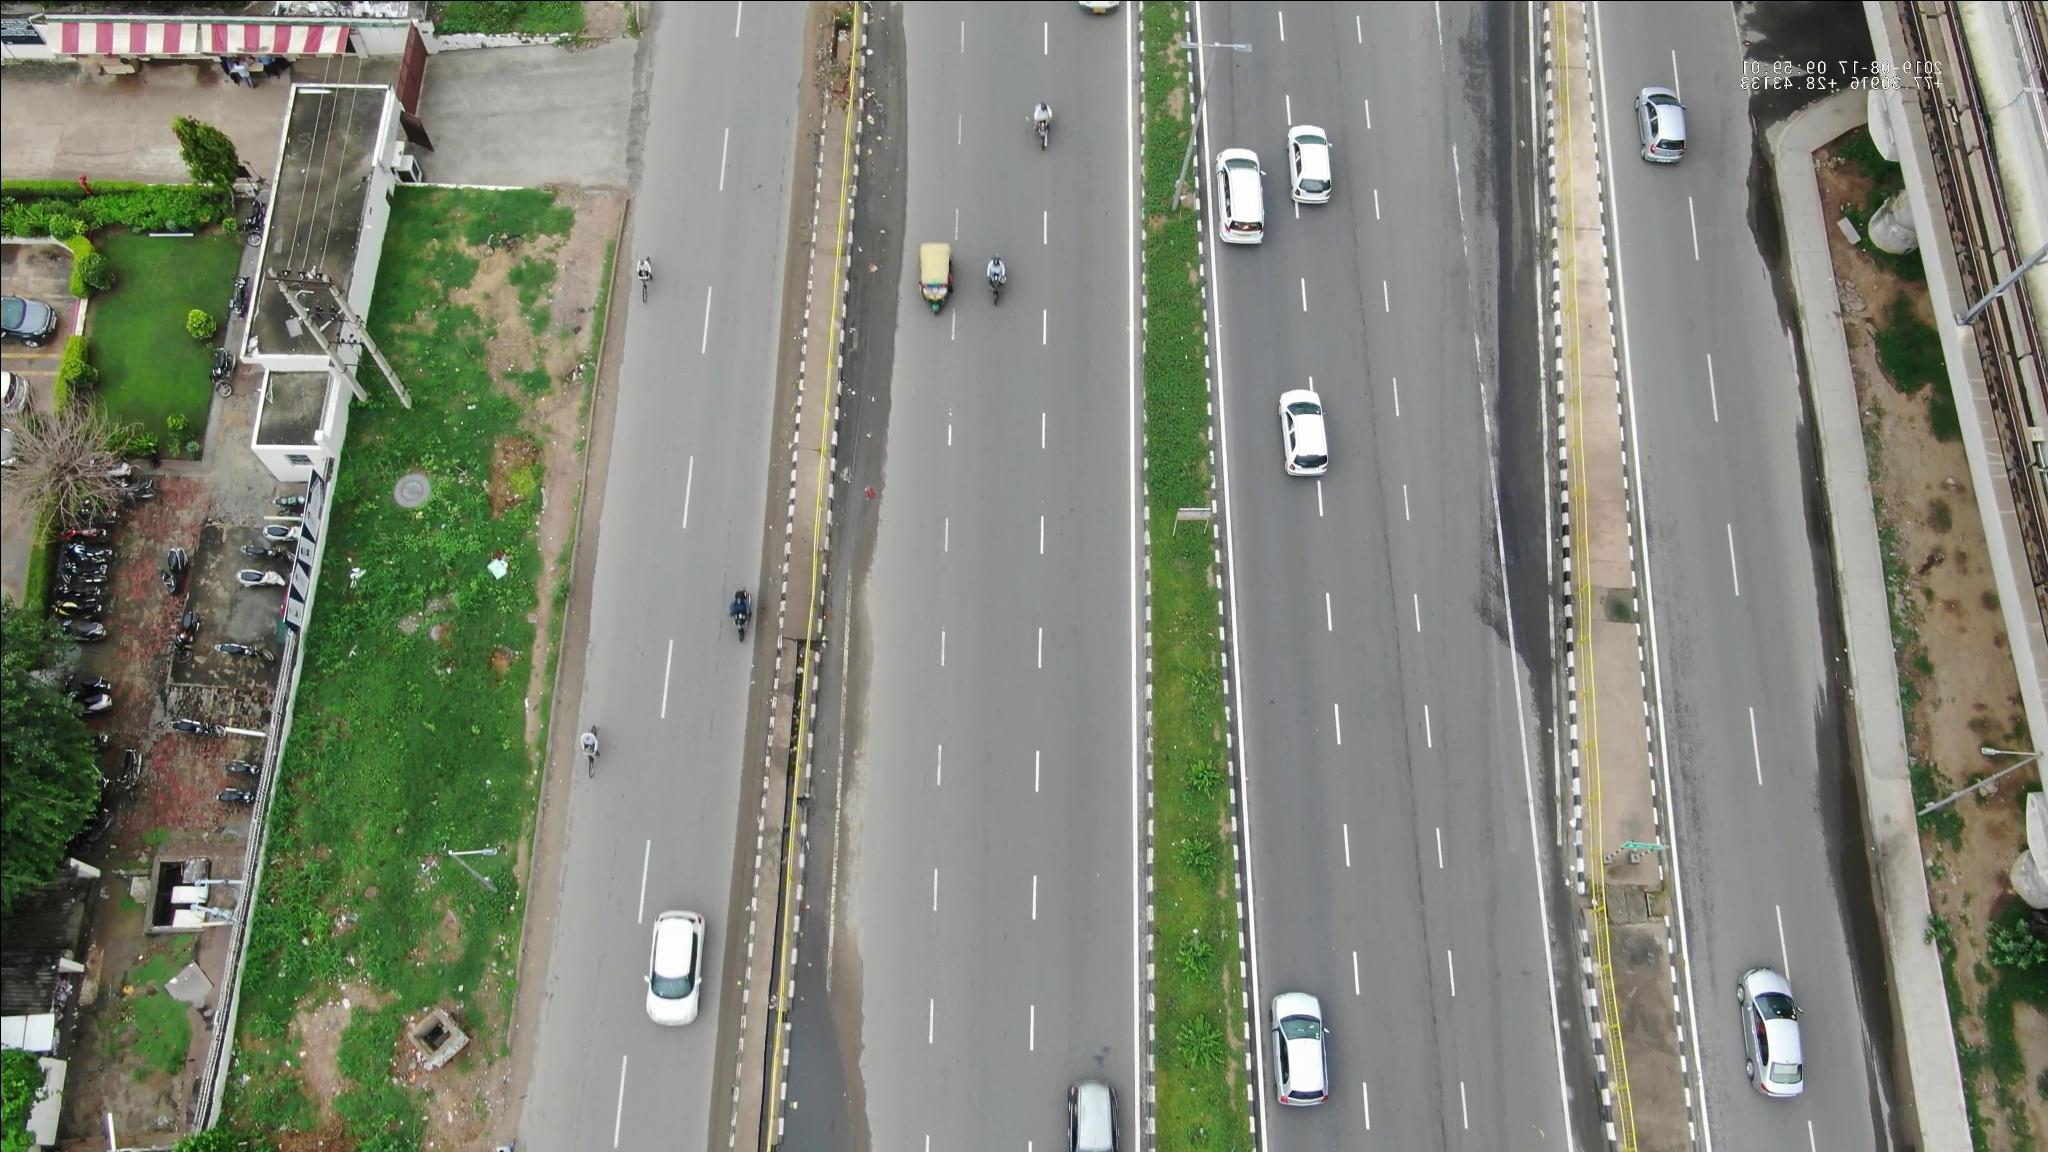Waterlogging: (779, 945, 862, 1149)
